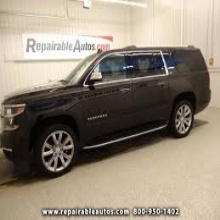no damage: (1, 45, 211, 174)
